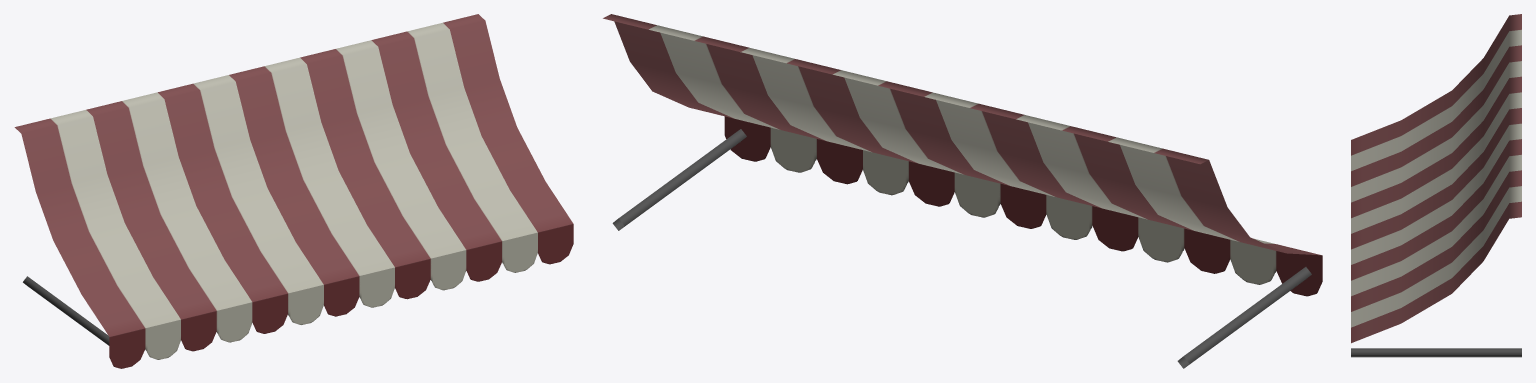
File: Awning_A1.fbx
3 views of the same model, side by side, from view 1: azimuth 30°, elevation 25°; view 2: azimuth 150°, elevation 25°; view 3: azimuth 270°, elevation 25° (orthographic). The views are drawn at different scales.
Visible parts, largest first — view 1: Awning_A1; view 2: Awning_A1; view 3: Awning_A1.
Boxes of the visible parts, x1,y1,x2,y2 form: Awning_A1: [14, 14, 573, 368]; Awning_A1: [603, 14, 1322, 368]; Awning_A1: [1351, 14, 1521, 357].
Bounding box in the file's own units: 454 × 164 × 161.
Materials: 1 (1 with a texture image).
